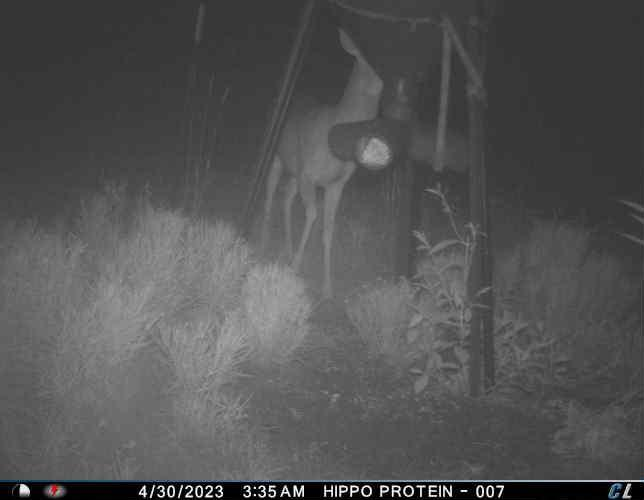Deer: (265, 24, 382, 305)
